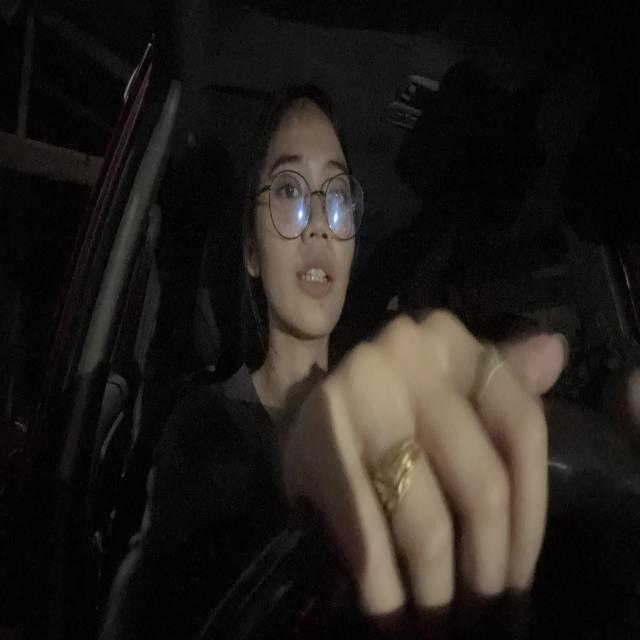open: (267, 150, 308, 214), (326, 157, 352, 217)
